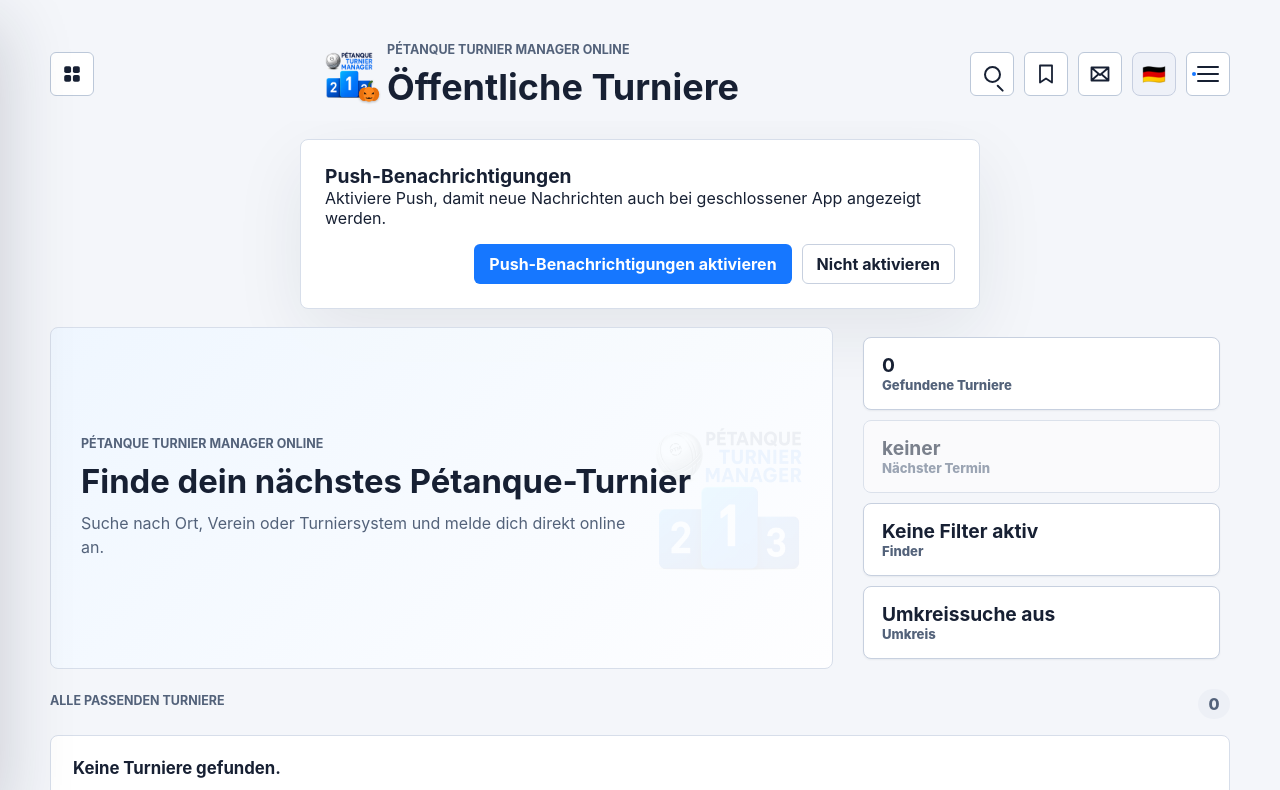
Test: Postbox-Polling › lädt bei geschlossener Postbox nur die Zusammenfassung
Click the button named "Postbox".
click(1100, 74)  # box [1078,52,1122,96]
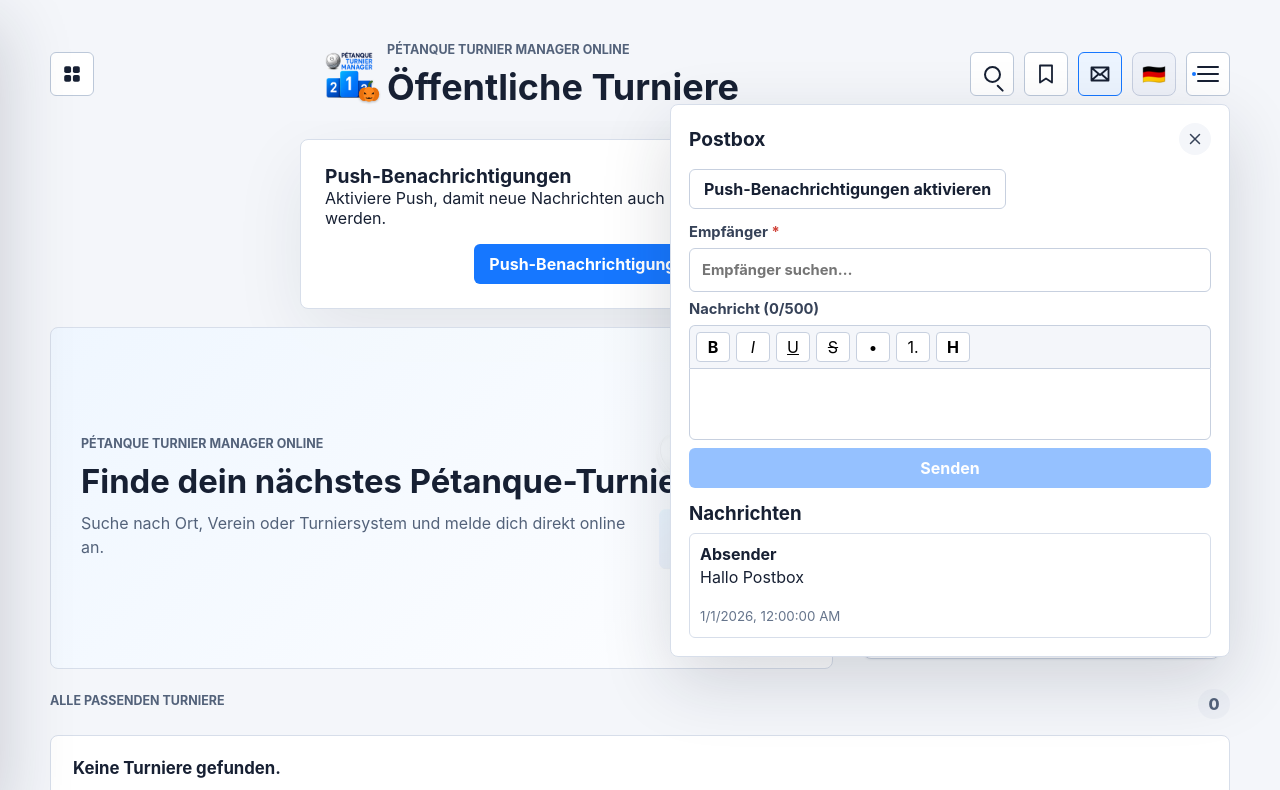
Expected: the text "Hallo Postbox" is shown, [700,567,804,587]
